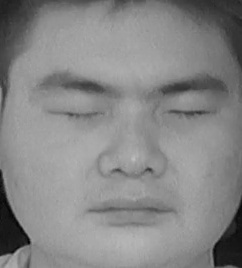blink: (44, 95, 107, 133), (164, 96, 218, 130)
mouth: (83, 189, 180, 238)
